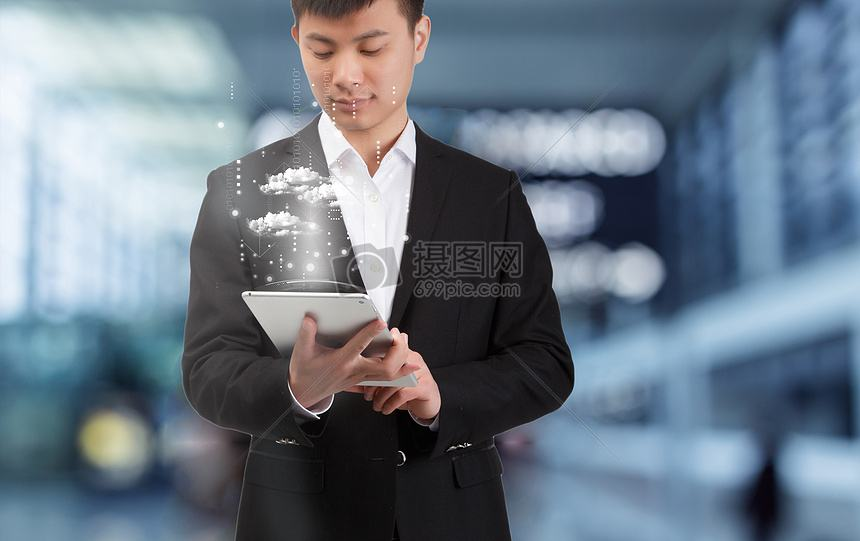pad: (224, 275, 454, 435)
